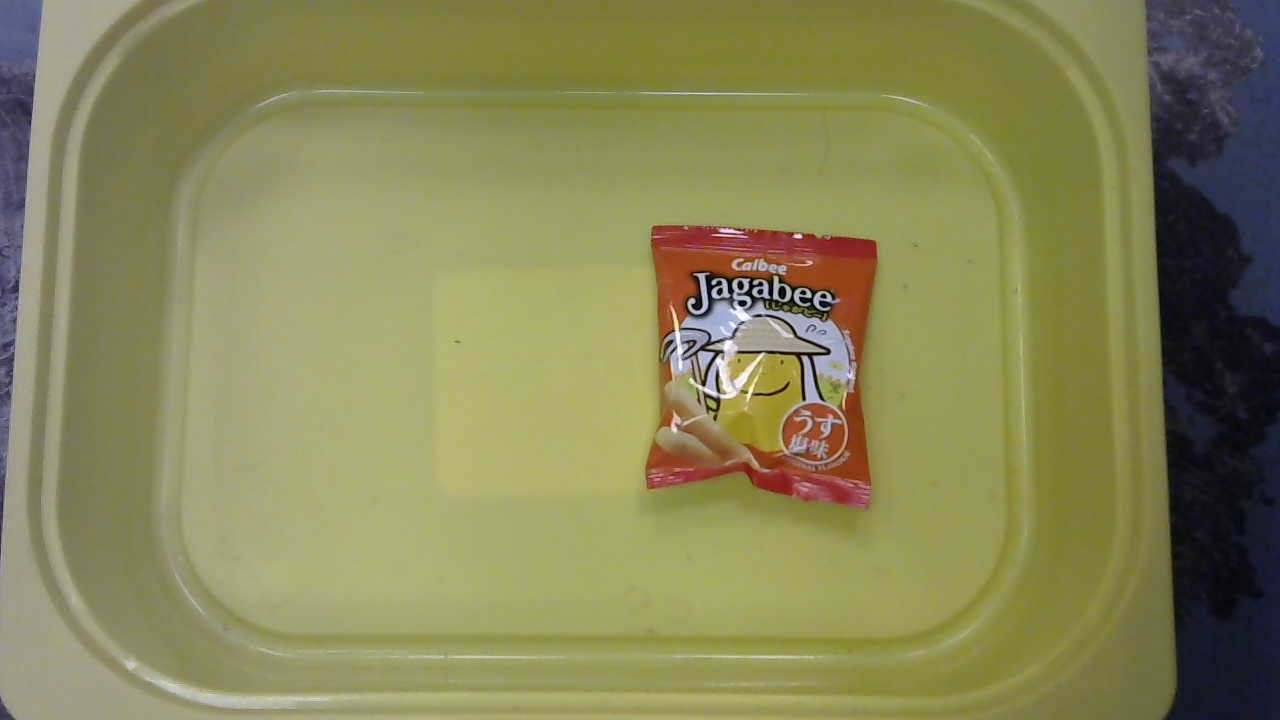JagabeeFarmer: (634, 212, 883, 516)
